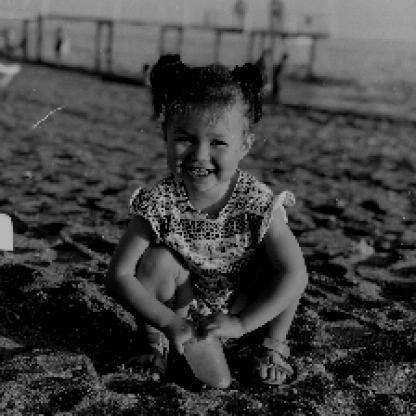child: (105, 53, 310, 389)
